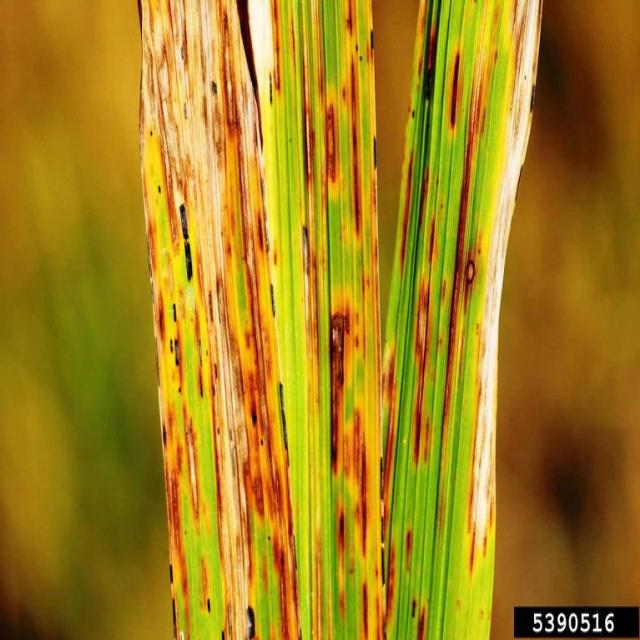Brown spot: (138, 0, 546, 640)
